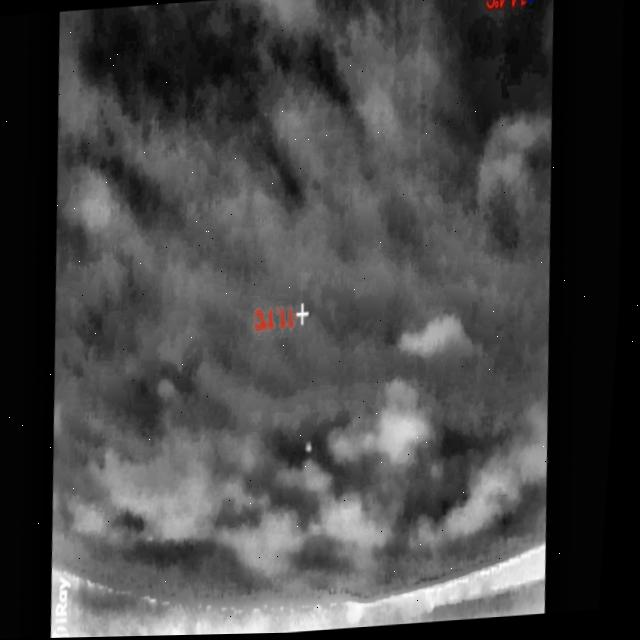drone: (310, 441, 320, 458)
